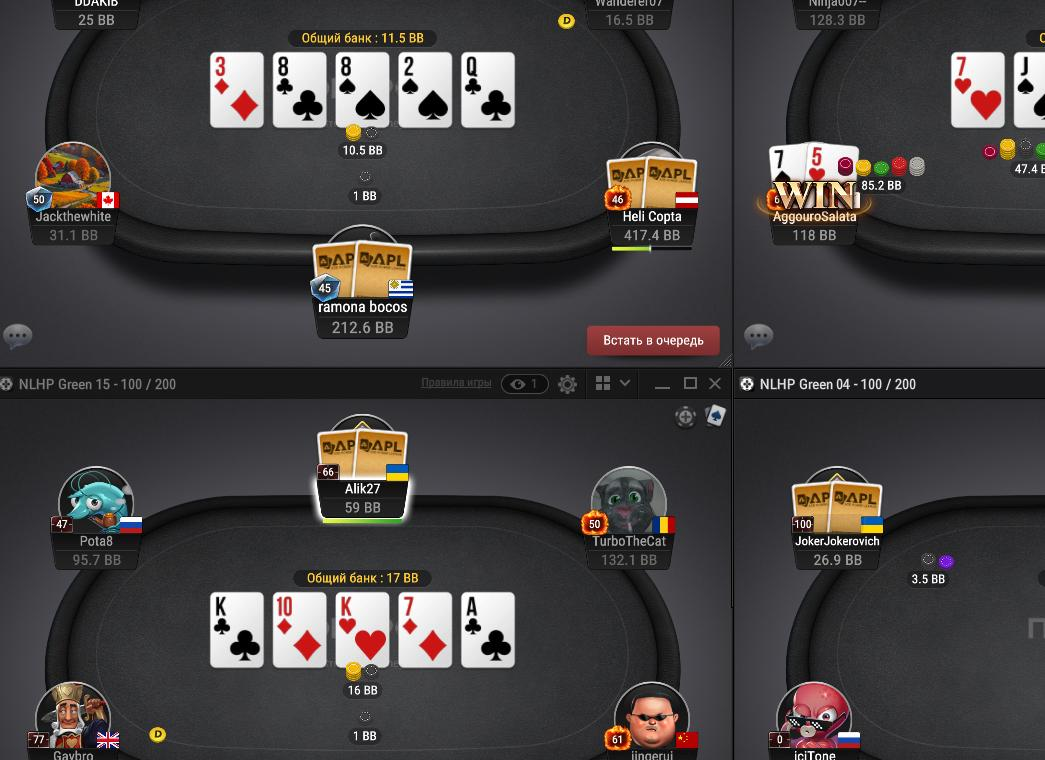10d: (272, 593, 324, 669)
2s: (399, 52, 451, 126)
3d: (209, 53, 264, 126)
5h: (808, 140, 860, 183)
7d: (400, 594, 453, 668)
7h: (950, 52, 1004, 127)
7s: (769, 143, 808, 181)
8c: (273, 52, 327, 129)
8s: (337, 52, 388, 127)
Ac: (461, 594, 516, 668)
Js: (1015, 51, 1044, 127)
Kc: (211, 591, 264, 669)
Kh: (337, 593, 390, 667)
Qc: (463, 53, 514, 128)
